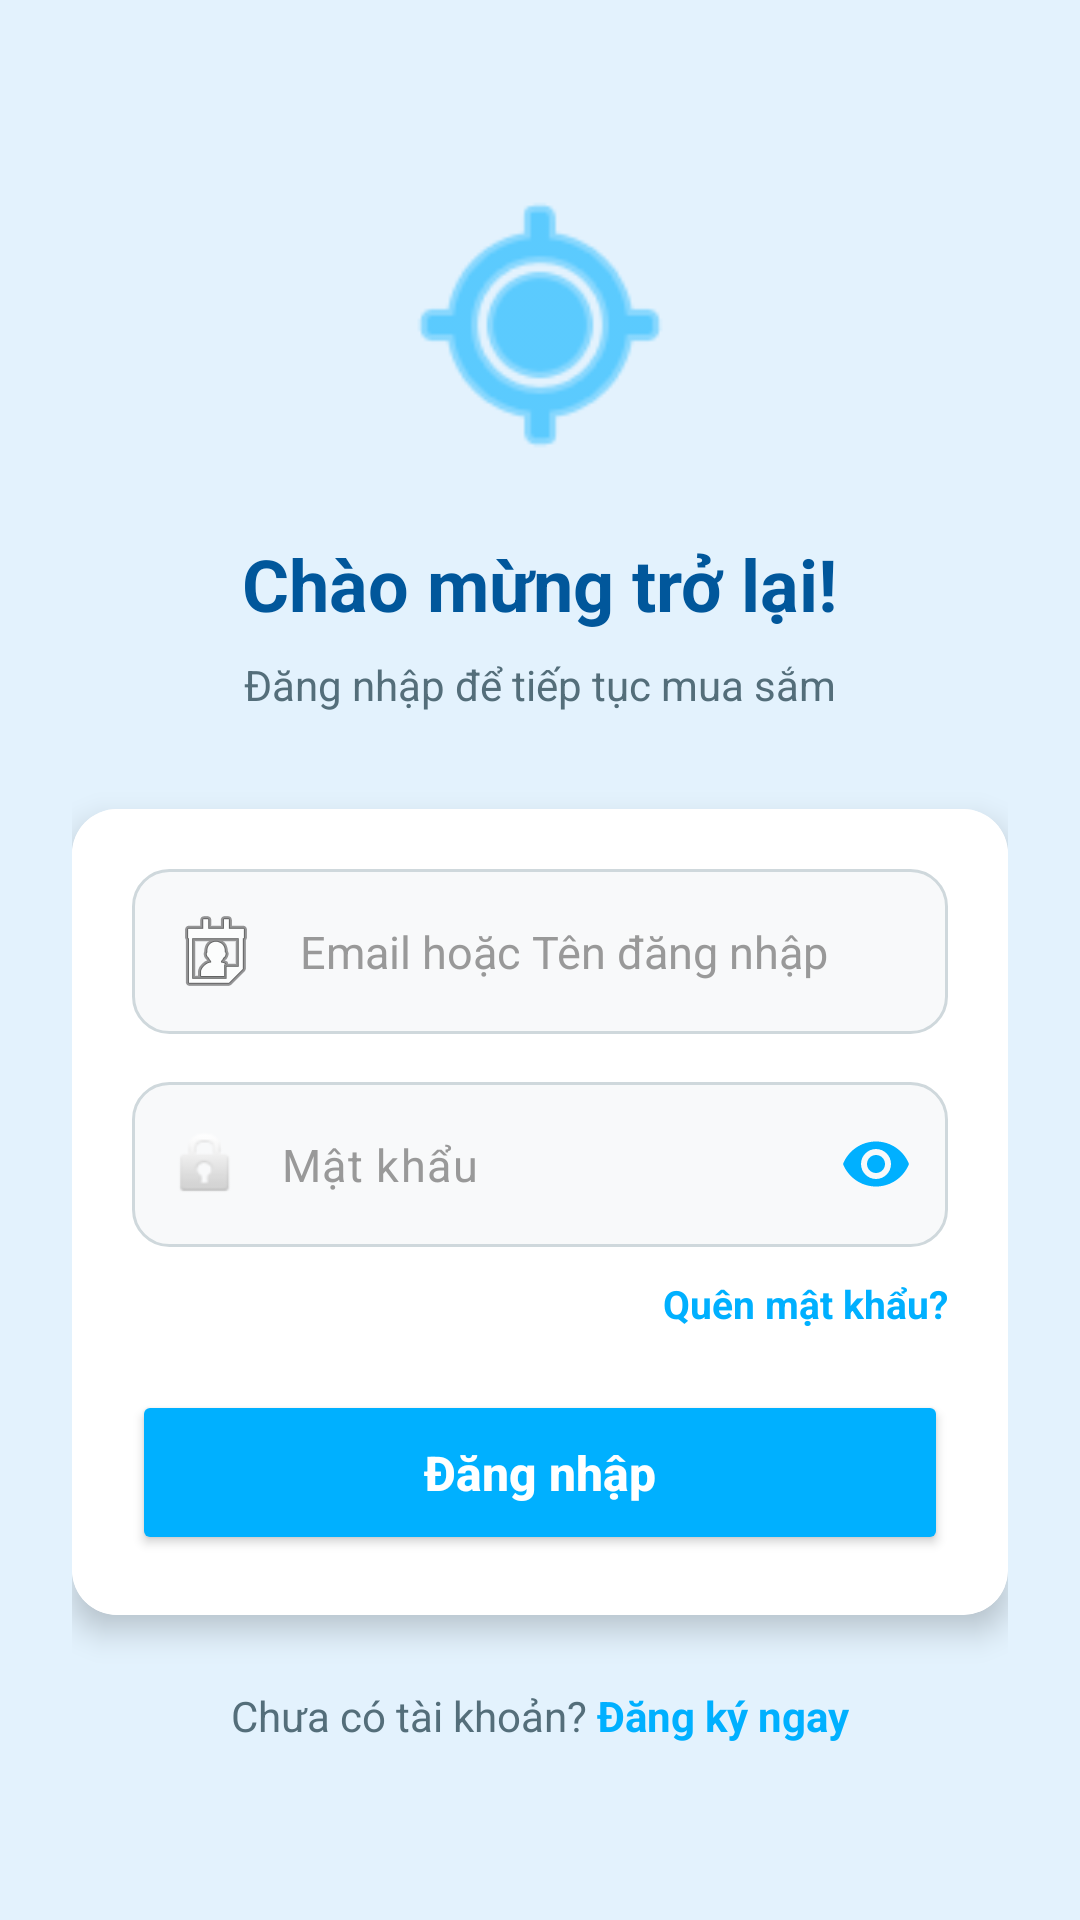

Screen size 1080w x 1920h. Icon name, then its center in pixels as (x=x, y=y):
mylocation: (x=540, y=325)
